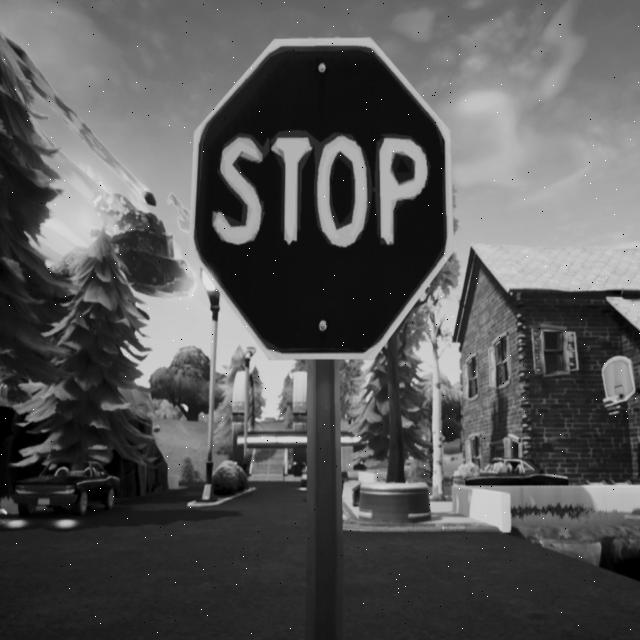Stop-sign: (182, 31, 464, 372)
